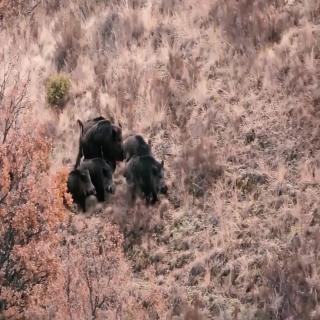Pig: (76, 104, 121, 154), (136, 153, 170, 201), (66, 154, 91, 218), (91, 151, 116, 199), (124, 127, 155, 157)
